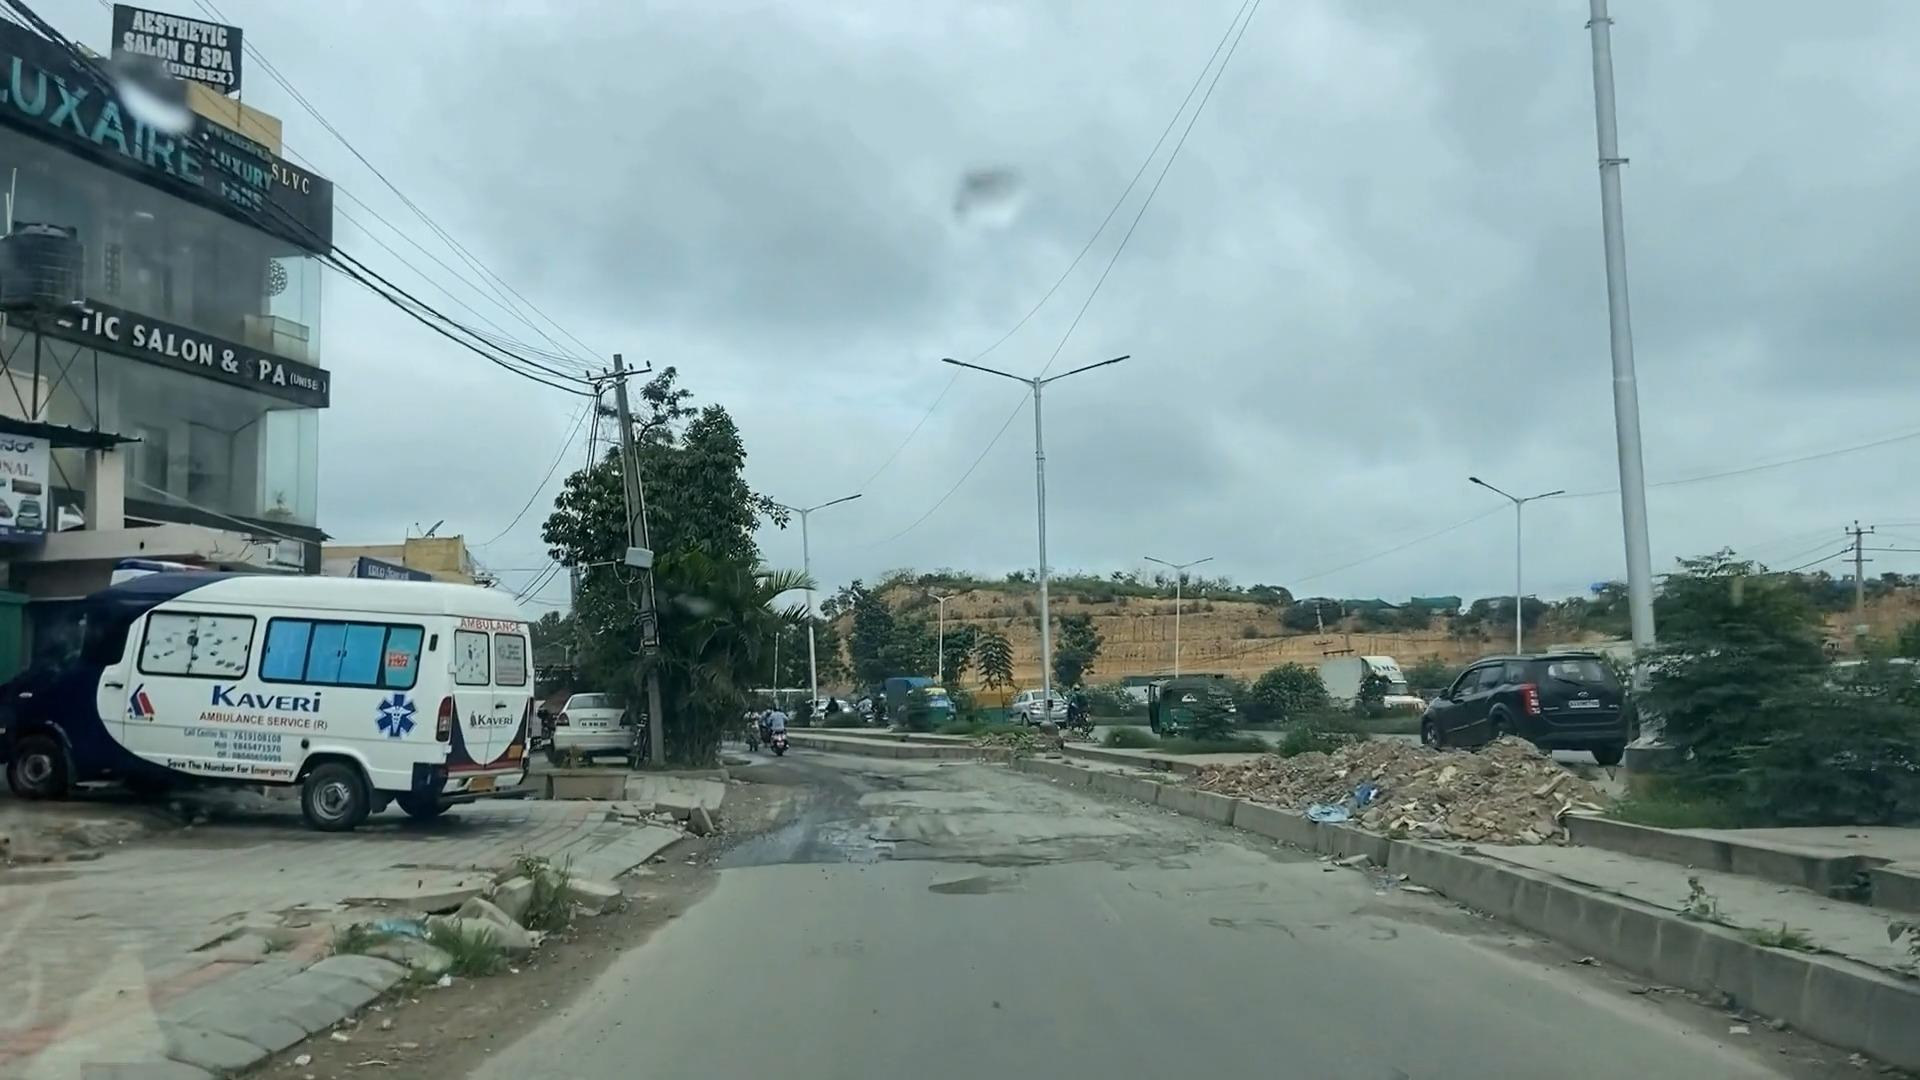RoadDamages: (719, 810, 1040, 899), (1067, 816, 1196, 890)
